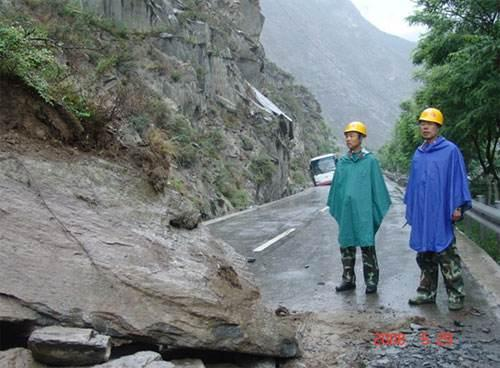helmet: (416, 107, 446, 142), (342, 119, 370, 152)
not_reflective: (402, 138, 474, 250), (326, 151, 394, 251)
